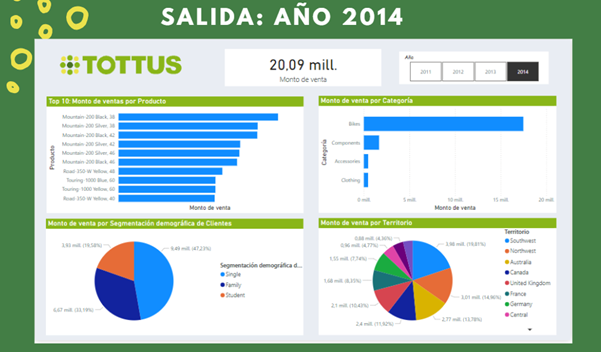

Layout of this report page (visuals, bound fields, positions):
{"tool":"powerbi","page":{"name":"Página 1","canvas":[1280,720],"ordinal":0},"visuals":[{"type":"barChart","title":"Top 10: Monto de ventas por Producto","fields":{"Category":["DIM PRODUCTO DESTINO.Name"],"Y":["FACT VENTAS DESTINO.Sales Amount"]},"box":[26.9,136.1,613.7,279.2],"z":0},{"type":"pieChart","fields":{"Category":["DIM CLIENTE DESTINO.Demographic Segment"],"Y":["FACT VENTAS DESTINO.Sales Amount"]},"box":[25.5,428,615.1,279.2],"z":1000},{"type":"barChart","fields":{"Category":["DIM PRODUCTO DESTINO.Category Name"],"Y":["FACT VENTAS DESTINO.Sales Amount"]},"box":[676.9,135.4,567.7,280],"z":2000},{"type":"card","fields":{"Values":["FACT VENTAS DESTINO.Sales Amount"]},"box":[453.5,22.7,374.2,89.3],"z":3000},{"type":"pieChart","fields":{"Category":["DIM TERRITORIO DESTINO.Name"],"Y":["FACT VENTAS DESTINO.Sales Amount"]},"box":[677,428,568,280],"z":4000},{"type":"slicer","fields":{"Values":["DIM TIEMPO DESTINO.Year"]},"box":[870.2,28.3,357.2,78],"z":5000},{"type":"image","box":[53.8,16.9,300,89.2],"z":6000}]}

Visuals, with their boxes on the page's 1280x720 design canvas (x1, y1, x2, y2). These are canvas units, not pixel positions in the 601x352 screenshot, which may show the page scaled, cropped or inside an application window:
"Top 10: Monto de ventas por Producto" barChart: l=27, t=136, r=641, b=415
pieChart - DIM CLIENTE DESTINO.Demographic Segment x FACT VENTAS DESTINO.Sales Amount: l=26, t=428, r=641, b=707
barChart - DIM PRODUCTO DESTINO.Category Name x FACT VENTAS DESTINO.Sales Amount: l=677, t=135, r=1245, b=415
card - FACT VENTAS DESTINO.Sales Amount: l=454, t=23, r=828, b=112
pieChart - DIM TERRITORIO DESTINO.Name x FACT VENTAS DESTINO.Sales Amount: l=677, t=428, r=1245, b=708
slicer - DIM TIEMPO DESTINO.Year: l=870, t=28, r=1227, b=106
image: l=54, t=17, r=354, b=106
